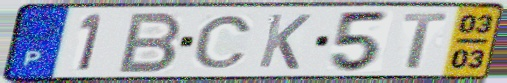1: (77, 12, 105, 74)
5: (325, 9, 398, 74)
B: (114, 10, 186, 75)
C: (190, 14, 255, 70)
K: (255, 11, 314, 72)
T: (401, 11, 451, 71)
